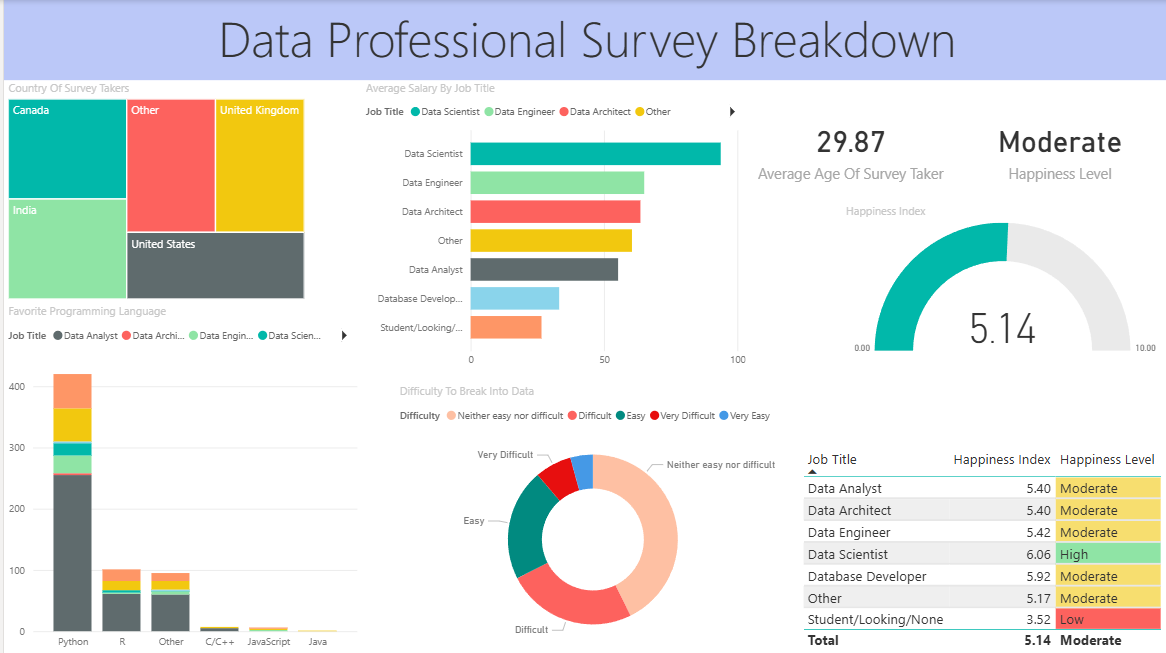

What the dashboard file says about the page in this screenshot:
{"tool":"powerbi","page":{"name":"Page 1","canvas":[1280,720],"ordinal":0},"visuals":[{"type":"textbox","box":[0,0,1280.3,87.8],"z":0},{"type":"card","fields":{"Values":["Data Professional Survey.Happiness Level"]},"box":[1038.8,87.8,241.5,152.3],"z":1000},{"type":"card","fields":{"Values":["Avg(Data Professional Survey.Q10 - Current Age)"]},"box":[820.6,87.8,218.2,152.3],"z":2000},{"type":"barChart","title":"Average Salary By Job Title","fields":{"Category":["Data Professional Survey.Q1 - Which Title Best Fits your Current Role?.1"],"Y":["Avg(Data Professional Survey.Average Salary)"],"Series":["Data Professional Survey.Q1 - Which Title Best Fits your Current Role?.1"]},"box":[392.5,87.8,426.8,323.8],"z":3000},{"type":"columnChart","title":"Favorite Programming Language","fields":{"Category":["Data Professional Survey.Q5 - Favorite Programming Language.1"],"Y":["CountNonNull(Data Professional Survey.Unique ID)"],"Series":["Data Professional Survey.Q1 - Which Title Best Fits your Current Role?.1"]},"box":[0,332.9,392.9,387.1],"z":4000},{"type":"treemap","title":"Country Of Survey Takers","fields":{"Group":["Data Professional Survey.Q11 - Which Country do you live in?.1"],"Values":["Count(Data Professional Survey.Q11 - Which Country do you live in?.1)"]},"box":[0,87.8,334.8,245.6],"z":5000},{"type":"donutChart","title":"Difficulty To Break Into Data","fields":{"Category":["Data Professional Survey.Q7 - How difficult was it for you to break into Data?"],"Y":["CountNonNull(Data Professional Survey.Q7 - How difficult was it for you to break into Data?)"]},"box":[430,421.4,434.3,298.6],"z":6000},{"type":"gauge","fields":{"Y":["Data Professional Survey.Total Happiness Index"]},"box":[920,224.3,360,171.4],"z":7000},{"type":"tableEx","fields":{"Values":["Data Professional Survey.Q1 - Which Title Best Fits your Current Role?.1","Data Professional Survey.Total Happiness Index","Data Professional Survey.Happiness Level"]},"box":[871.4,487.1,408.6,232.9],"z":8000}]}

Visuals, with their boxes in screenshot pixels (x1, y1, x2, y2), scaled from the page's 1280x720 canvas onto the 1166x653 screenshot:
textbox: 0, 0, 1165, 80
card - Data Professional Survey.Happiness Level: 946, 80, 1165, 218
card - Avg(Data Professional Survey.Q10 - Current Age): 748, 80, 946, 218
"Average Salary By Job Title" barChart: 358, 80, 746, 373
"Favorite Programming Language" columnChart: 0, 302, 358, 652
"Country Of Survey Takers" treemap: 0, 80, 305, 302
"Difficulty To Break Into Data" donutChart: 392, 382, 787, 652
gauge - Data Professional Survey.Total Happiness Index: 838, 203, 1165, 359
tableEx - Data Professional Survey.Q1 - Which Title Best Fits your Current Role?.1 x Data Professional Survey.Total Happiness Index: 794, 442, 1165, 652
